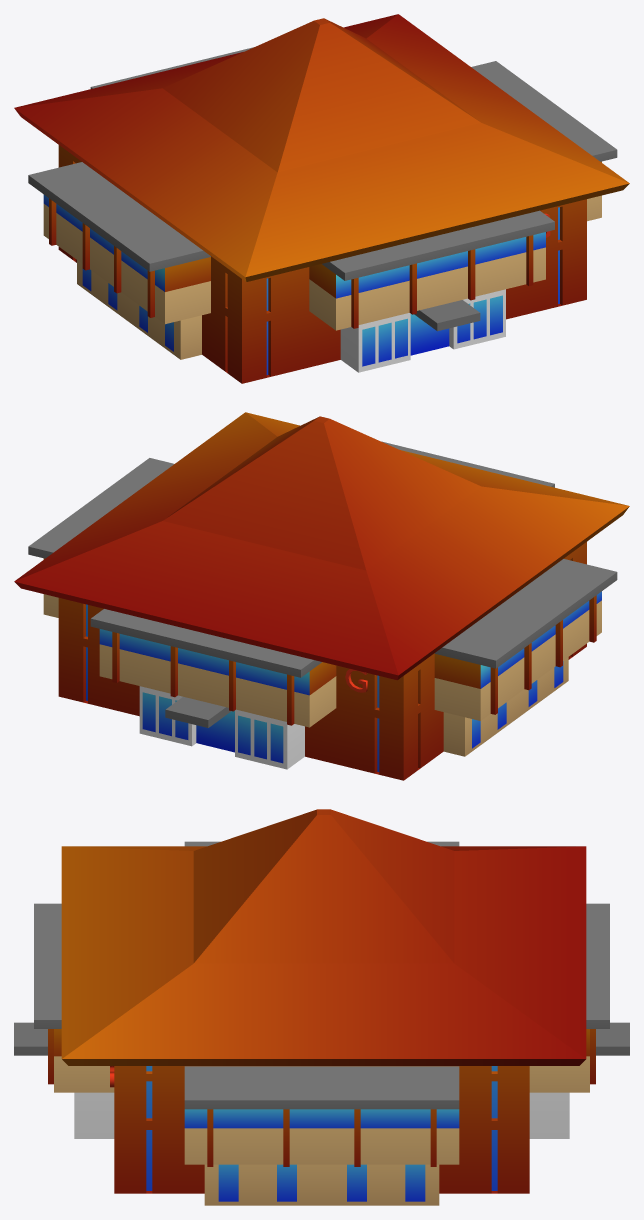
The model's file is Gedung G Pasca Sarjana.fbx.
3 views of the same model, one above another, from view 1: azimuth 30°, elevation 25°; view 2: azimuth 150°, elevation 25°; view 3: azimuth 270°, elevation 25° (orthographic). The views are drawn at different scales.
Parts seen in each view (by area): view 1: Gedung G Pasca Sarjana; view 2: Gedung G Pasca Sarjana; view 3: Gedung G Pasca Sarjana.
Boxes of the visible parts, box(x1,y1,x2,y2) form: Gedung G Pasca Sarjana: box(14, 14, 629, 383); Gedung G Pasca Sarjana: box(14, 412, 629, 780); Gedung G Pasca Sarjana: box(14, 809, 629, 1205).
Bounding box in the file's own units: 3050 × 1573 × 3070.
1 material, 1 textured.
